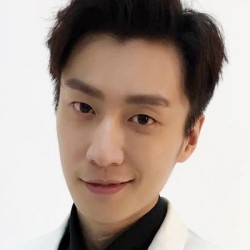unmask: (56, 37, 187, 225)
